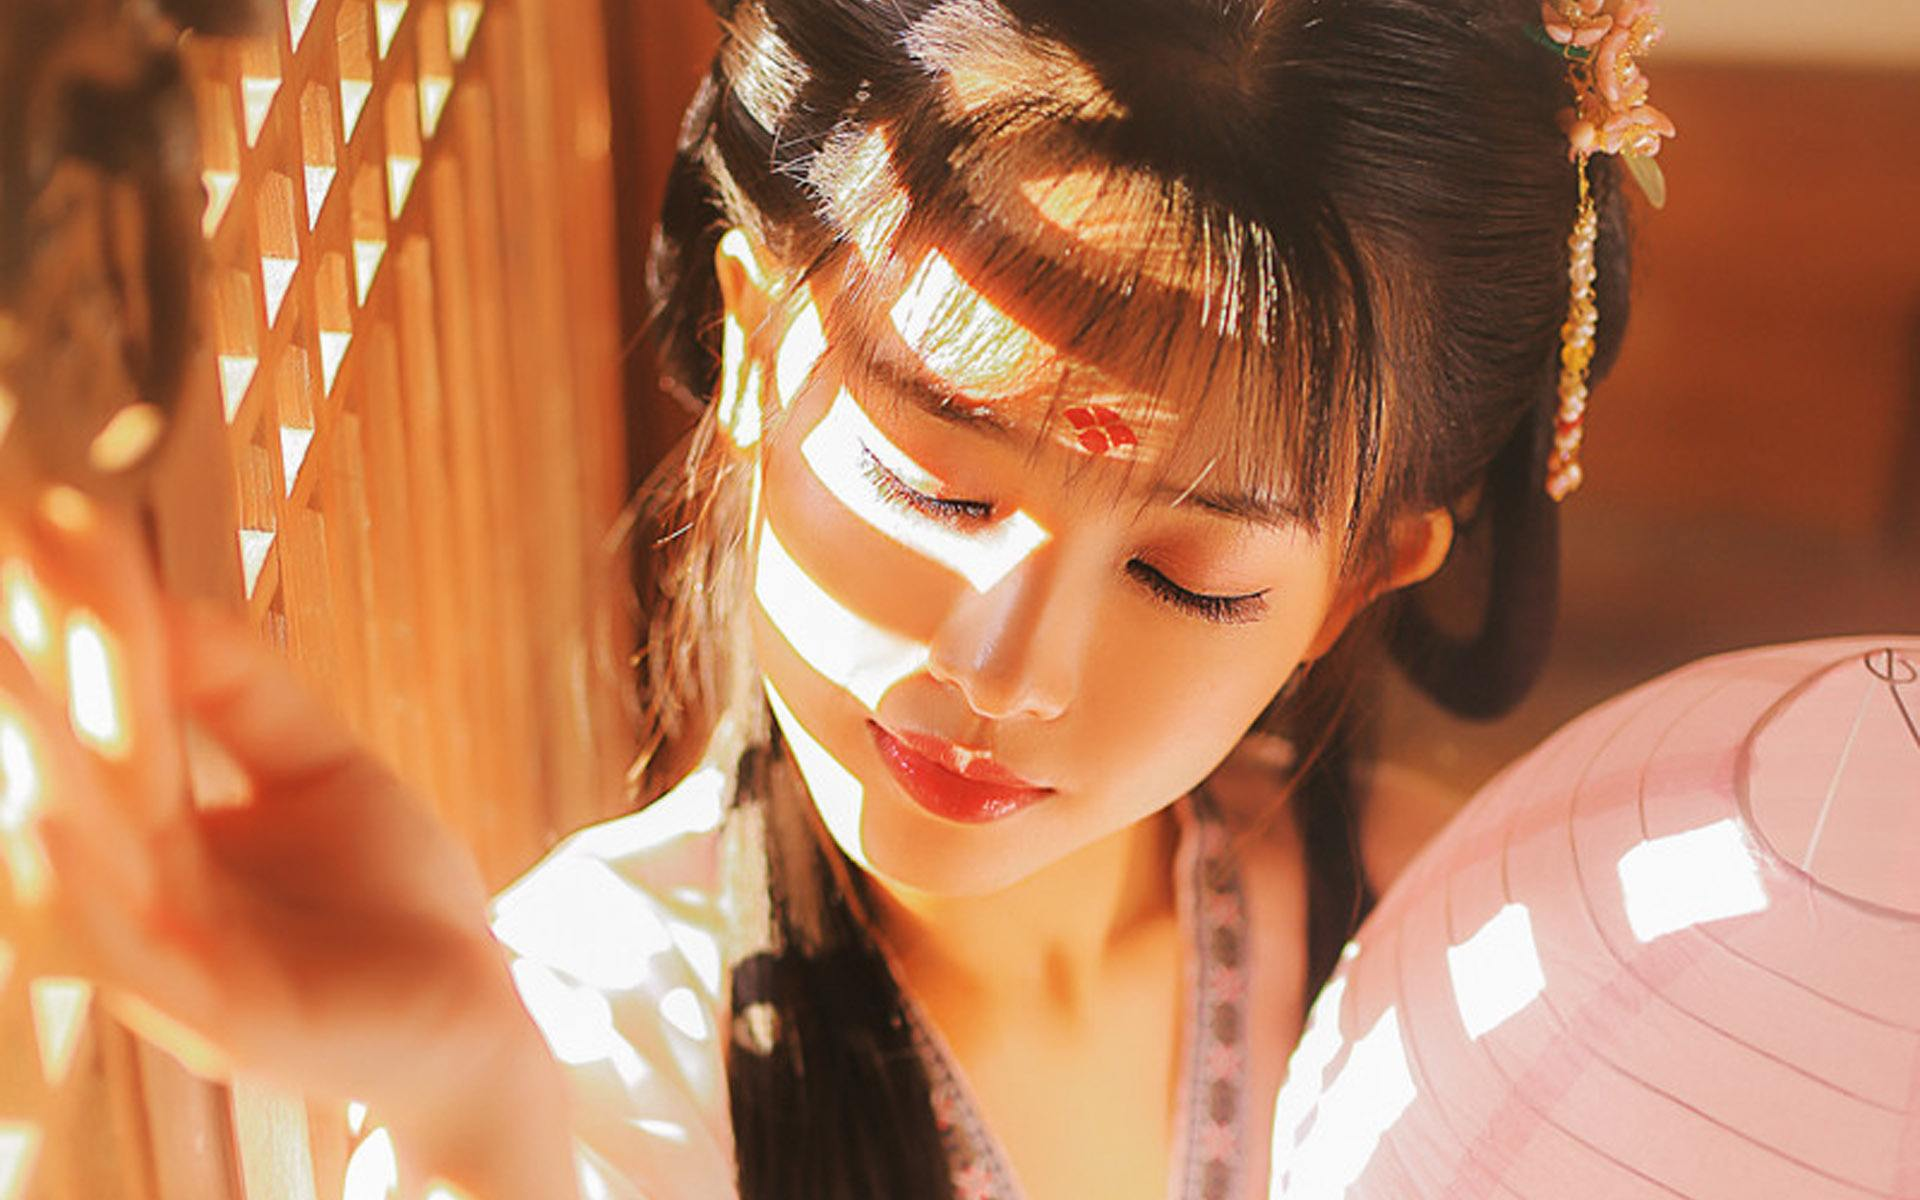person: (351, 16, 1720, 1109)
